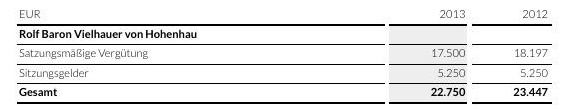table: (0, 0, 563, 111)
